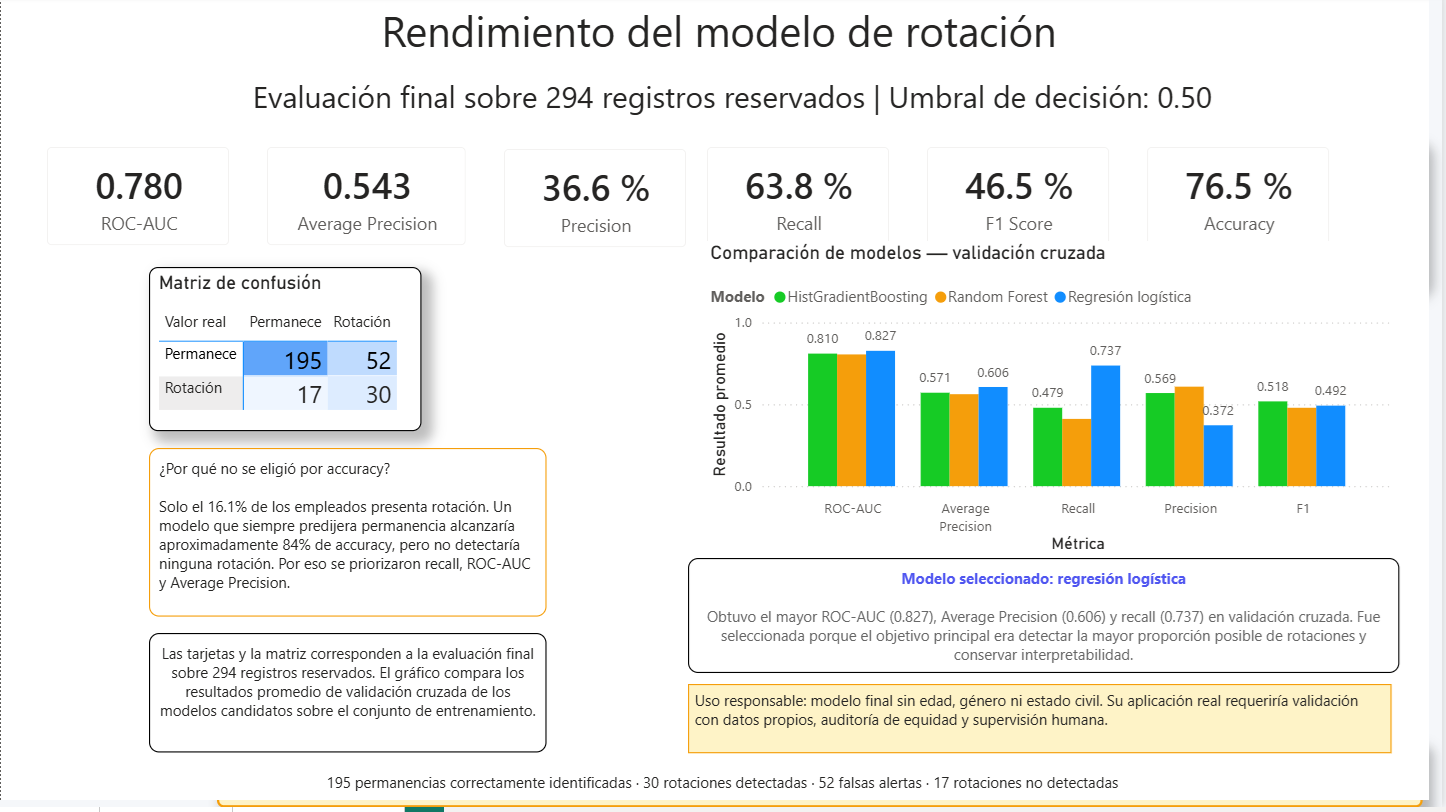

What the dashboard file says about the page in this screenshot:
{"tool":"powerbi","page":{"name":"Rendimiento del modelo","canvas":[1280,720],"ordinal":2},"visuals":[{"type":"textbox","box":[253.9,0,779.1,65.2],"z":0},{"type":"textbox","box":[194.5,65.2,921.1,53.5],"z":1},{"type":"cardVisual","fields":{"Data":["RotacionEmpleados.ROC AUC Modelo"]},"box":[23.7,117.7,197.2,122.8],"z":2},{"type":"cardVisual","fields":{"Data":["RotacionEmpleados.Average Precision Modelo"]},"box":[220.9,117.7,212.6,122.8],"z":3},{"type":"cardVisual","fields":{"Data":["RotacionEmpleados.Precision Modelo"]},"box":[433.5,118.7,197.2,122.8],"z":4},{"type":"cardVisual","fields":{"Data":["RotacionEmpleados.Recall Modelo"]},"box":[615.2,117.7,197.2,122.8],"z":5},{"type":"cardVisual","fields":{"Data":["RotacionEmpleados.F1 Modelo"]},"box":[812.4,117.7,197.2,122.8],"z":6},{"type":"cardVisual","fields":{"Data":["RotacionEmpleados.Accuracy Modelo"]},"box":[1009.5,117.7,197.2,122.8],"z":7},{"type":"pivotTable","title":"Matriz de confusión","fields":{"Rows":["MatrizConfusion.Valor real"],"Columns":["MatrizConfusion.Predicción"],"Values":["Sum(MatrizConfusion.Cantidad)"]},"box":[132.1,241.5,243.6,146.6],"z":8},{"type":"textbox","box":[23.7,689.5,1243.9,31],"z":9},{"type":"clusteredColumnChart","title":"Comparación de modelos — validación cruzada","fields":{"Category":["ComparacionModelos.Métrica"],"Y":["Sum(ComparacionModelos.Resultado)"],"Series":["ComparacionModelos.Modelo"]},"box":[630.7,218.8,621.4,283.9],"z":10},{"type":"textbox","box":[615.2,502.7,636.9,103.2],"z":12},{"type":"textbox","box":[132.1,403.6,356.1,150.7],"z":13},{"type":"textbox","box":[132.1,569.8,356.1,107.4],"z":14},{"type":"textbox","box":[615.2,615.2,629.7,61.9],"z":15}]}

Visuals, with their boxes in screenshot pixels (x1, y1, x2, y2), scaled from the page's 1280x720 canvas onto the 1446x812 screenshot:
textbox: {"x1": 287, "y1": 0, "x2": 1167, "y2": 74}
textbox: {"x1": 220, "y1": 74, "x2": 1260, "y2": 134}
cardVisual - RotacionEmpleados.ROC AUC Modelo: {"x1": 27, "y1": 133, "x2": 250, "y2": 271}
cardVisual - RotacionEmpleados.Average Precision Modelo: {"x1": 250, "y1": 133, "x2": 490, "y2": 271}
cardVisual - RotacionEmpleados.Precision Modelo: {"x1": 490, "y1": 134, "x2": 712, "y2": 272}
cardVisual - RotacionEmpleados.Recall Modelo: {"x1": 695, "y1": 133, "x2": 918, "y2": 271}
cardVisual - RotacionEmpleados.F1 Modelo: {"x1": 918, "y1": 133, "x2": 1141, "y2": 271}
cardVisual - RotacionEmpleados.Accuracy Modelo: {"x1": 1140, "y1": 133, "x2": 1363, "y2": 271}
"Matriz de confusión" pivotTable: {"x1": 149, "y1": 272, "x2": 424, "y2": 438}
textbox: {"x1": 27, "y1": 778, "x2": 1432, "y2": 811}
"Comparación de modelos — validación cruzada" clusteredColumnChart: {"x1": 712, "y1": 247, "x2": 1414, "y2": 567}
textbox: {"x1": 695, "y1": 567, "x2": 1414, "y2": 683}
textbox: {"x1": 149, "y1": 455, "x2": 552, "y2": 625}
textbox: {"x1": 149, "y1": 643, "x2": 552, "y2": 764}
textbox: {"x1": 695, "y1": 694, "x2": 1406, "y2": 764}
